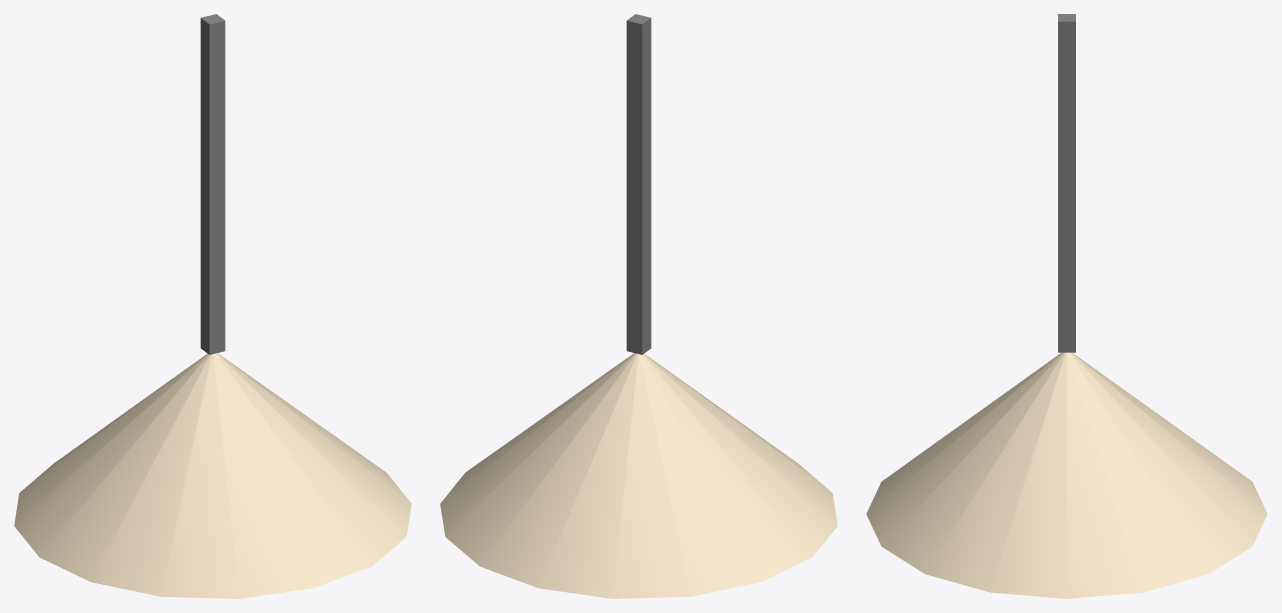
File: pendant.glb
3 renders of one model, left to right at view 1: azimuth 30°, elevation 25°; view 2: azimuth 150°, elevation 25°; view 3: azimuth 270°, elevation 25°, orthographic.
Bounding box in the file's own units: 0.44 × 0.6 × 0.44.
